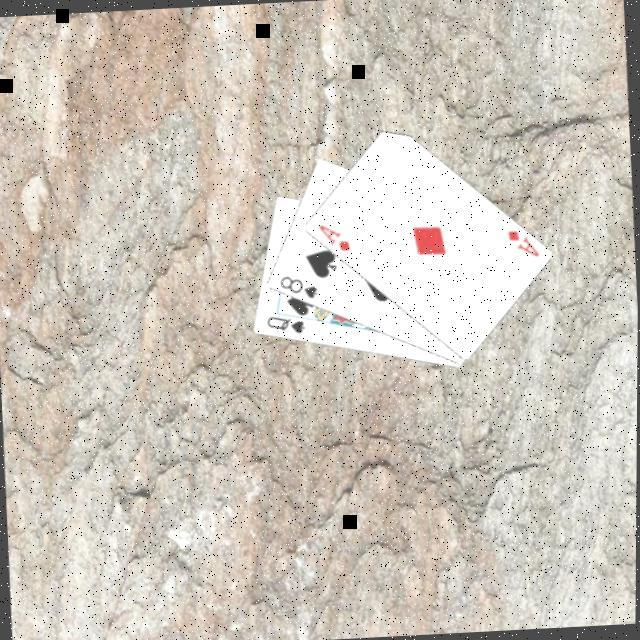8S: (278, 272, 322, 304)
AD: (504, 226, 544, 262), (316, 221, 354, 257)
QS: (264, 312, 310, 339)
